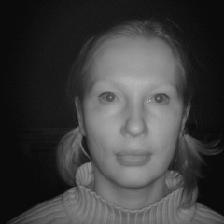normal: (66, 19, 197, 190)
